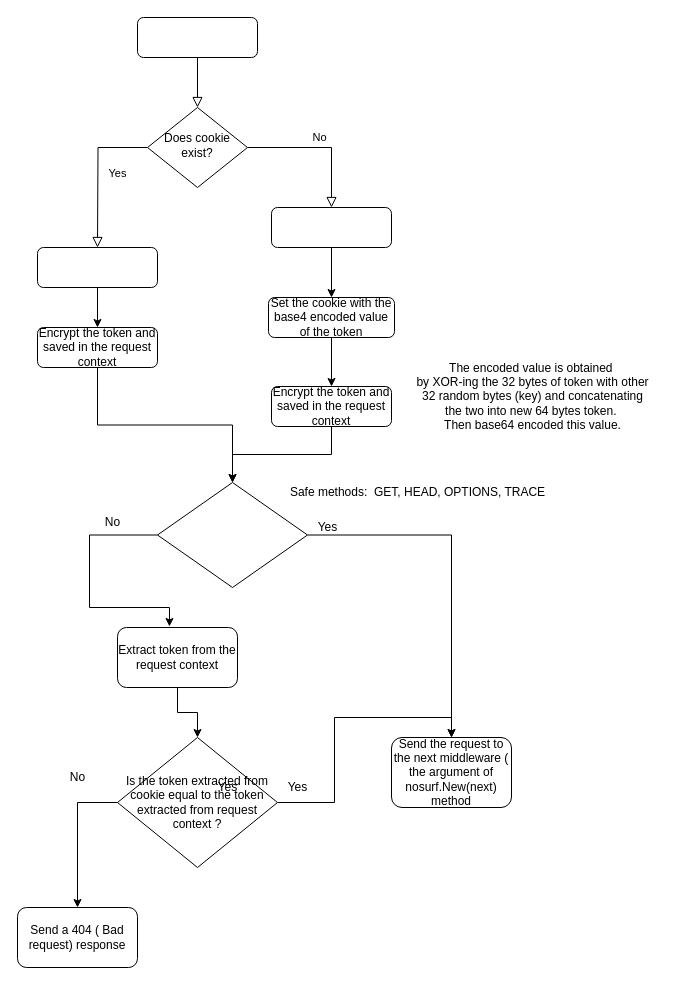
Image size: 675x985. Some labels were removed from this diagram. Here are the shapes that lost their labels. From the top down, the centre of each, then its label:
At point 197,37: "Looks for the cookie named csrf_token".
At point 331,227: "Generates a new token (32 random bytes)".
At point 97,267: "Base64 decode the cookie into a 32 byte token".
At point 232,535: "Is the request method a safe method ?".
